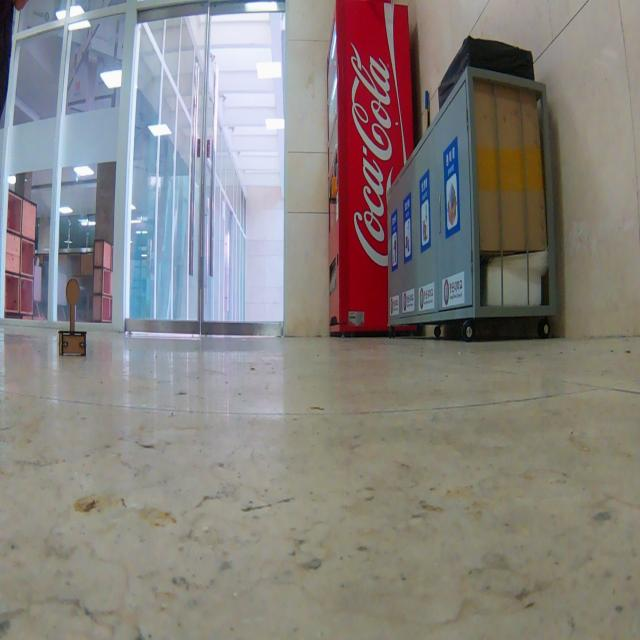target: (58, 278, 87, 358)
